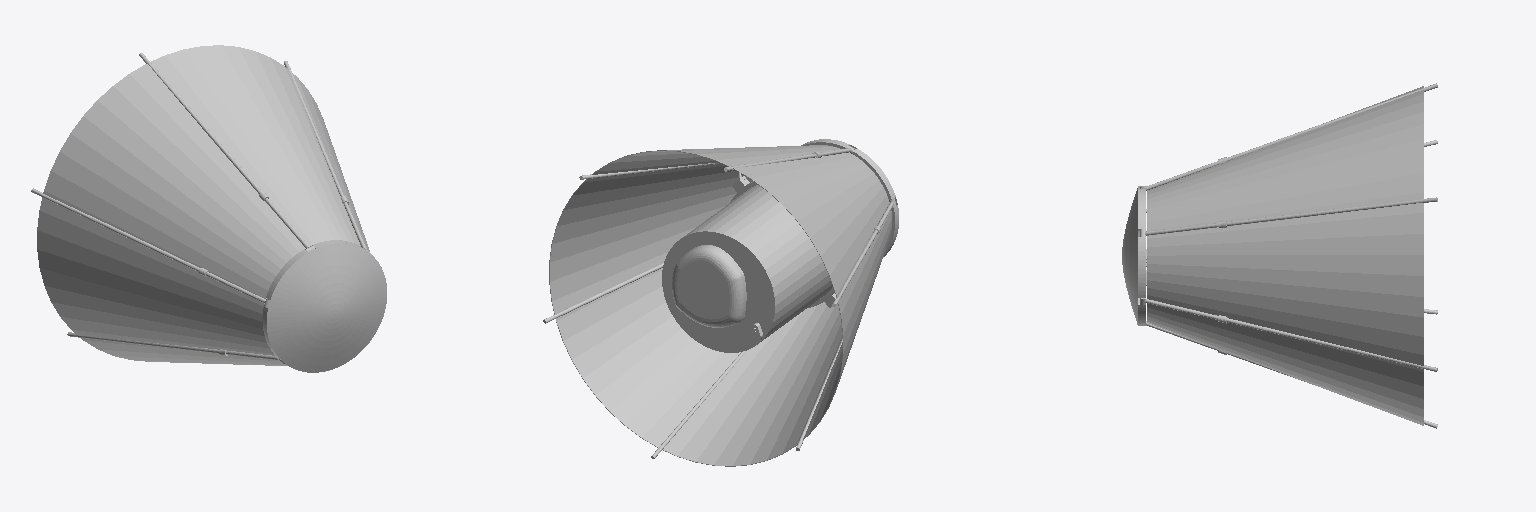
File: Payload assembly deployted.obj
3 renders of one model, left to right at view 1: azimuth 30°, elevation 25°; view 2: azimuth 150°, elevation 25°; view 3: azimuth 270°, elevation 25°, orthographic.
Visible parts, largest first — view 1: mesh 6 SERVO DEMO-1, mesh 4 parachutefolded-1, mesh 1 umbrella pin-3; view 2: mesh 6 SERVO DEMO-1, mesh 4 parachutefolded-1, mesh 2 umbrella pin-2, mesh 1 umbrella pin-3; view 3: mesh 6 SERVO DEMO-1, mesh 1 umbrella pin-3, mesh 4 parachutefolded-1.
Part boxes in pixels (bbox=[...]): mesh 6 SERVO DEMO-1: bbox=[37, 45, 369, 365]; mesh 4 parachutefolded-1: bbox=[262, 240, 386, 372]; mesh 1 umbrella pin-3: bbox=[31, 53, 371, 363]; mesh 6 SERVO DEMO-1: bbox=[549, 145, 891, 466]; mesh 4 parachutefolded-1: bbox=[662, 139, 898, 352]; mesh 2 umbrella pin-2: bbox=[672, 245, 746, 327]; mesh 1 umbrella pin-3: bbox=[543, 145, 896, 458]; mesh 6 SERVO DEMO-1: bbox=[1147, 86, 1423, 425]; mesh 1 umbrella pin-3: bbox=[1140, 83, 1437, 428]; mesh 4 parachutefolded-1: bbox=[1122, 186, 1146, 325].
Bounding box in the file's own units: 0.3193 × 0.321 × 0.2971.